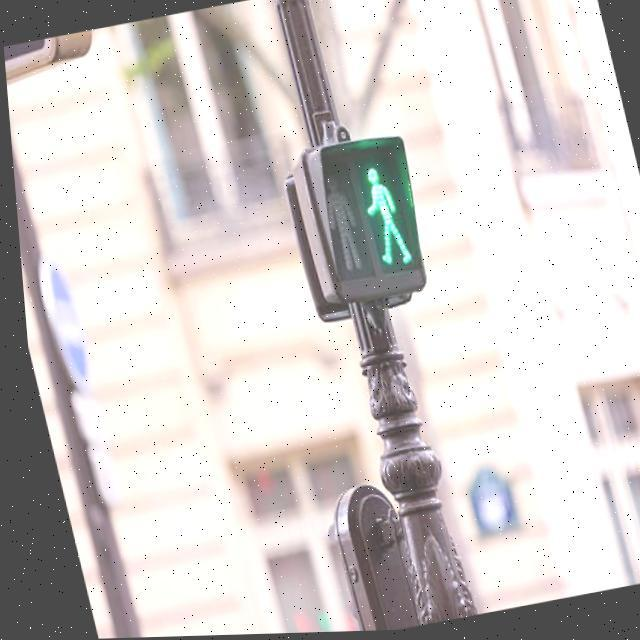green_light: (352, 166, 410, 276)
